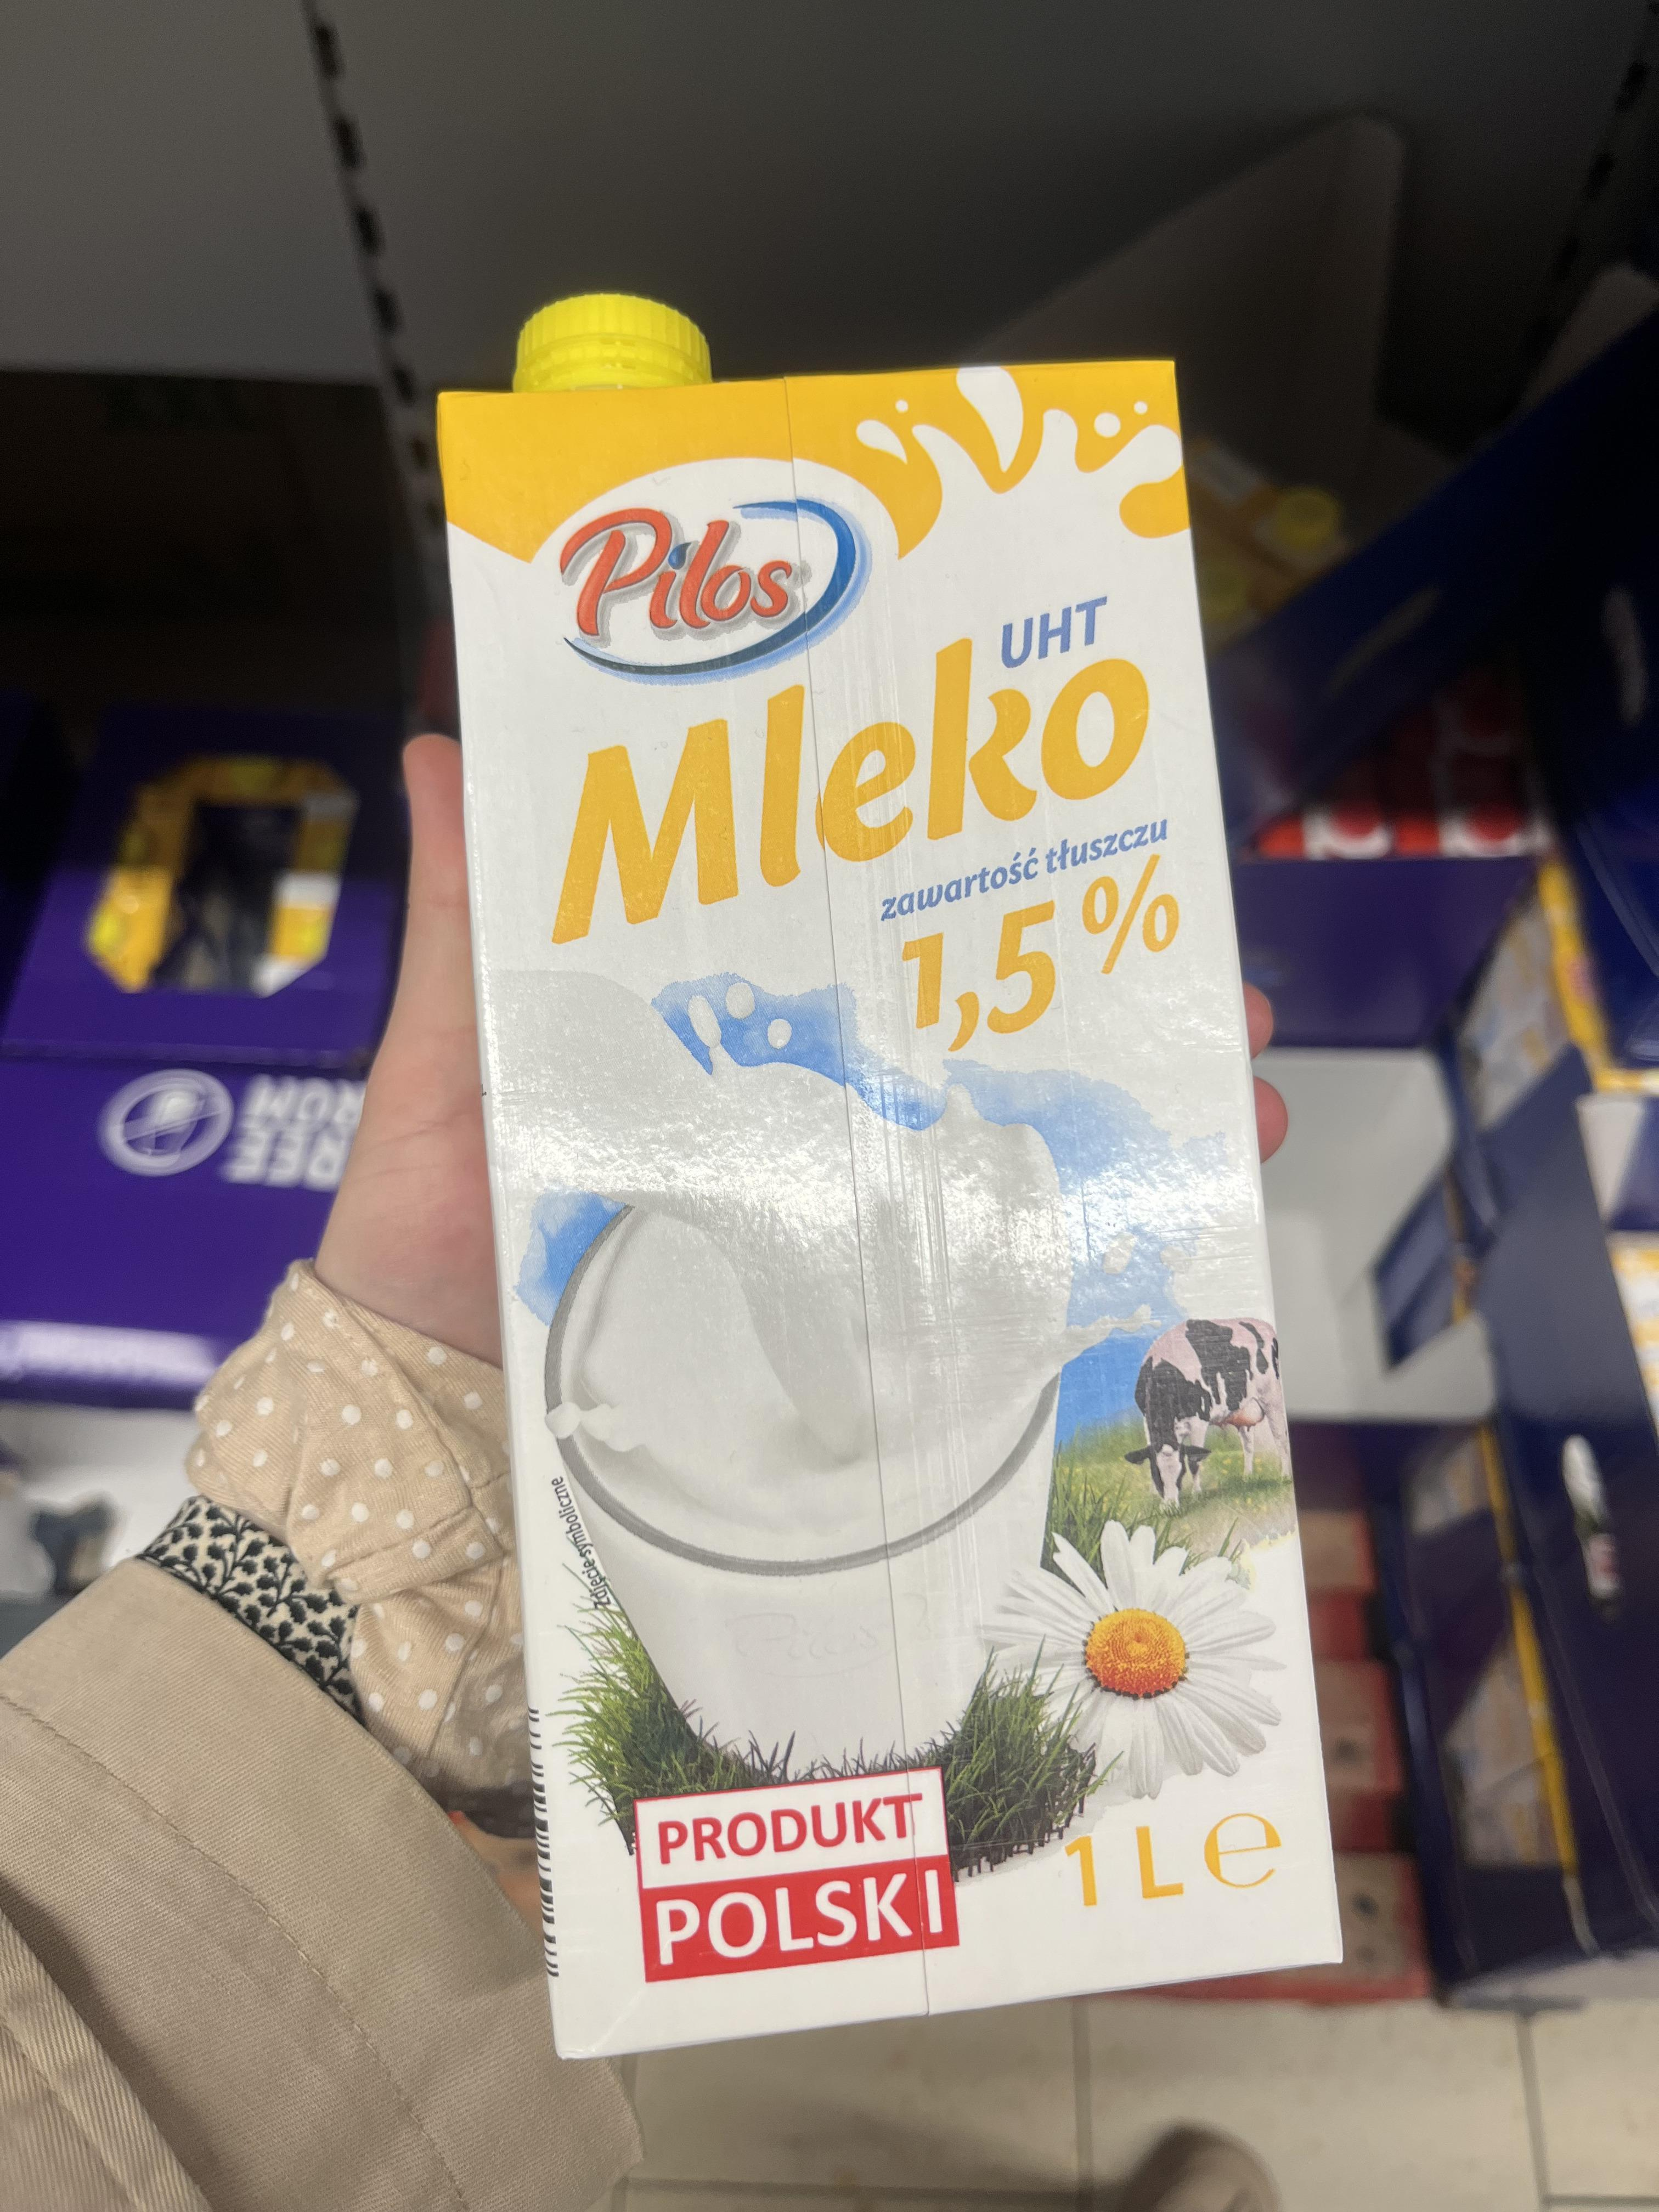Milk: (423, 378, 1344, 2024)
